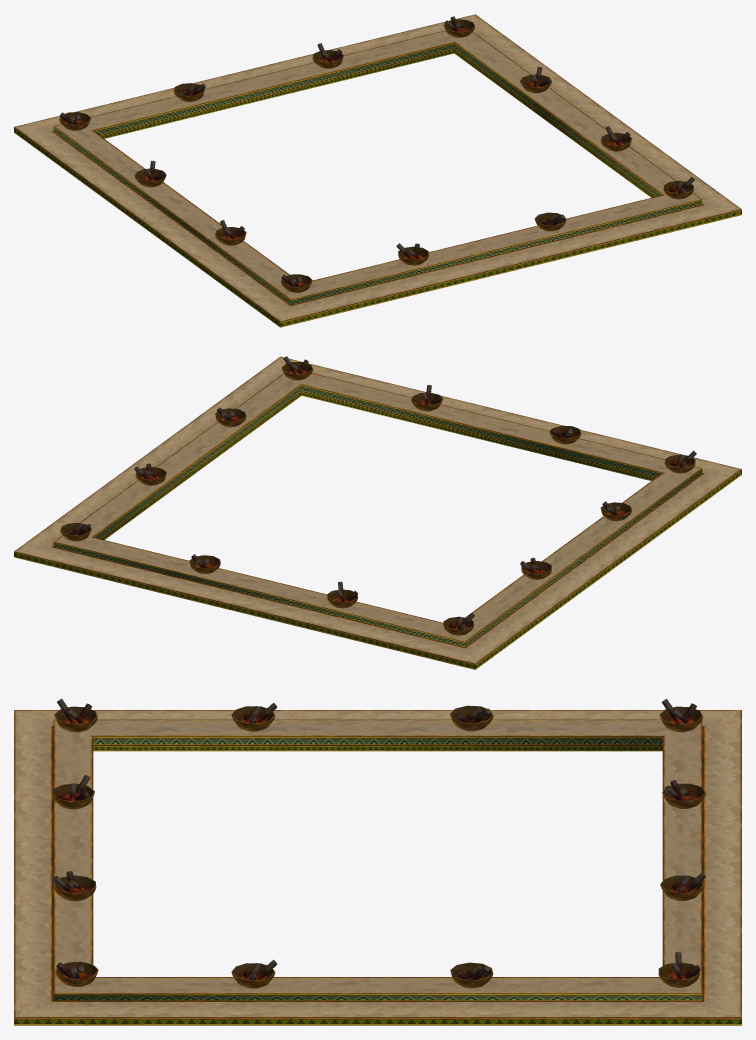
The model's file is furni_0200936.FBX.
3 renders of one model, top to bottom at view 1: azimuth 30°, elevation 25°; view 2: azimuth 150°, elevation 25°; view 3: azimuth 270°, elevation 25°, orthographic. The views are drawn at different scales.
Visible parts, largest first — view 1: furni_0200936; view 2: furni_0200936; view 3: furni_0200936.
Boxes of the visible parts, x1,y1,x2,y2 form: furni_0200936: [14, 14, 741, 327]; furni_0200936: [14, 356, 741, 669]; furni_0200936: [14, 698, 741, 1025].
Bounding box in the file's own units: 1064 × 64.31 × 1064.
